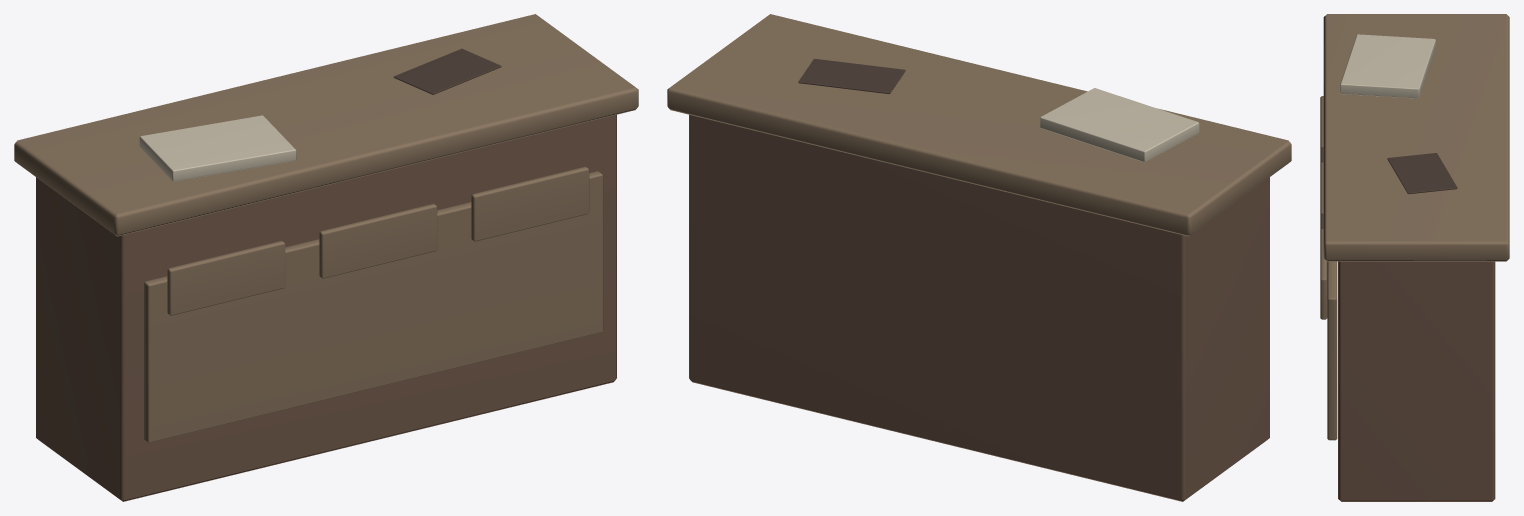
The model's file is prop_reception_counter_01.glb.
The picture shows the model from 3 angles, left to right: view 1: azimuth 30°, elevation 25°; view 2: azimuth 150°, elevation 25°; view 3: azimuth 270°, elevation 25°; orthographic projection. The views are drawn at different scales.
Visible parts, largest first — view 1: counter_body.001, counter_front_panel.001, counter_top.001, guest_book_old.001, counter_drawer_01.001, counter_drawer_03.001, counter_drawer_02.001, dark_stain_on_counter.001; view 2: counter_body.001, counter_top.001, guest_book_old.001, dark_stain_on_counter.001; view 3: counter_top.001, counter_body.001, guest_book_old.001, dark_stain_on_counter.001, counter_front_panel.001, counter_drawer_03.001, counter_drawer_02.001, counter_drawer_01.001.
Boxes of the visible parts, left/top/right/bottom form: counter_body.001: left=36, top=114, right=616, bottom=501; counter_front_panel.001: left=144, top=171, right=603, bottom=442; counter_top.001: left=14, top=14, right=638, bottom=236; guest_book_old.001: left=139, top=115, right=296, bottom=181; counter_drawer_01.001: left=167, top=240, right=285, bottom=315; counter_drawer_03.001: left=471, top=166, right=589, bottom=241; counter_drawer_02.001: left=319, top=203, right=437, bottom=278; dark_stain_on_counter.001: left=393, top=48, right=501, bottom=94; counter_body.001: left=689, top=114, right=1269, bottom=501; counter_top.001: left=667, top=14, right=1291, bottom=236; guest_book_old.001: left=1040, top=88, right=1199, bottom=162; dark_stain_on_counter.001: left=798, top=58, right=905, bottom=94; counter_top.001: left=1323, top=14, right=1509, bottom=261; counter_body.001: left=1338, top=261, right=1495, bottom=501; guest_book_old.001: left=1340, top=34, right=1435, bottom=98; dark_stain_on_counter.001: left=1387, top=153, right=1457, bottom=194; counter_front_panel.001: left=1327, top=261, right=1337, bottom=440; counter_drawer_03.001: left=1320, top=229, right=1327, bottom=319; counter_drawer_02.001: left=1320, top=162, right=1323, bottom=229; counter_drawer_01.001: left=1320, top=96, right=1323, bottom=163.
Bounding box in the file's own units: 1.9 × 1.07 × 0.6625.
